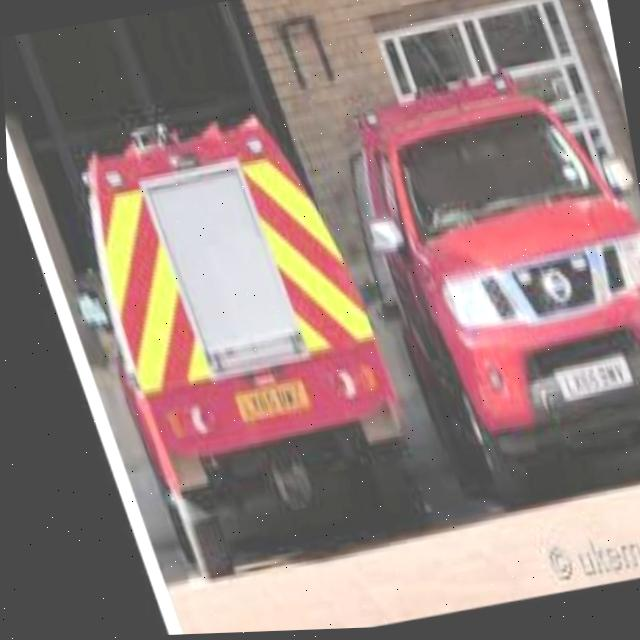emergency: (70, 90, 426, 586), (334, 50, 640, 520)
